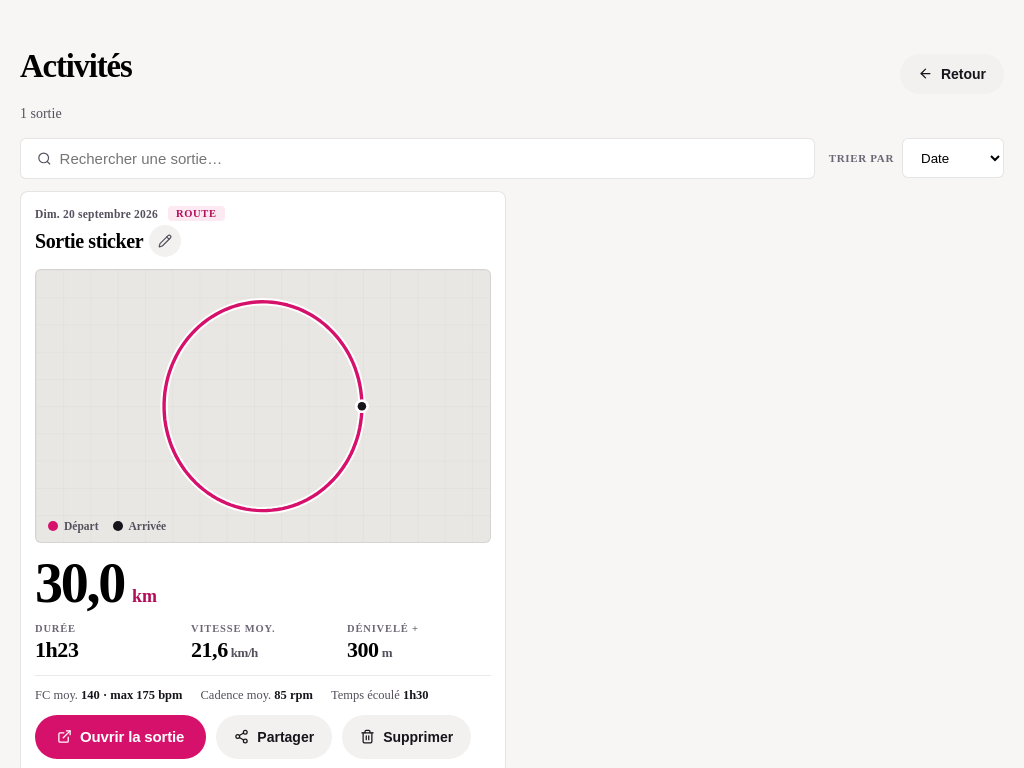
it: ActivityFeedView — partage › propose Clair / Sombre / Transparent et le format Sticker ; le fond transparent affiche un repère damier et un nom de fichier dédié
Check: the number of pictures named "Tracé de" is 1, box [36,270,490,542]
Step 1. Click the button "Partager" → [274, 736], box [216,714,332,758]
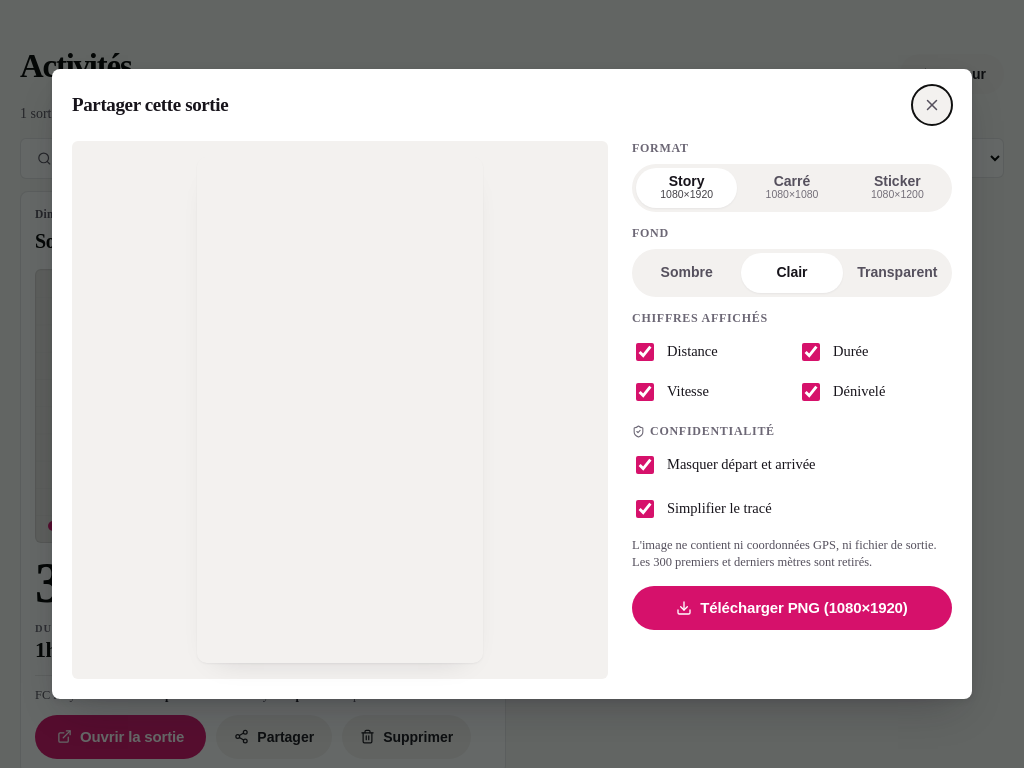
Check: the radio buttons read "Sombre", "Clair", "Transparent", in this order
Step 2. Click the radio button labelled "Transparent" → [897, 273], box [847,253,948,293]
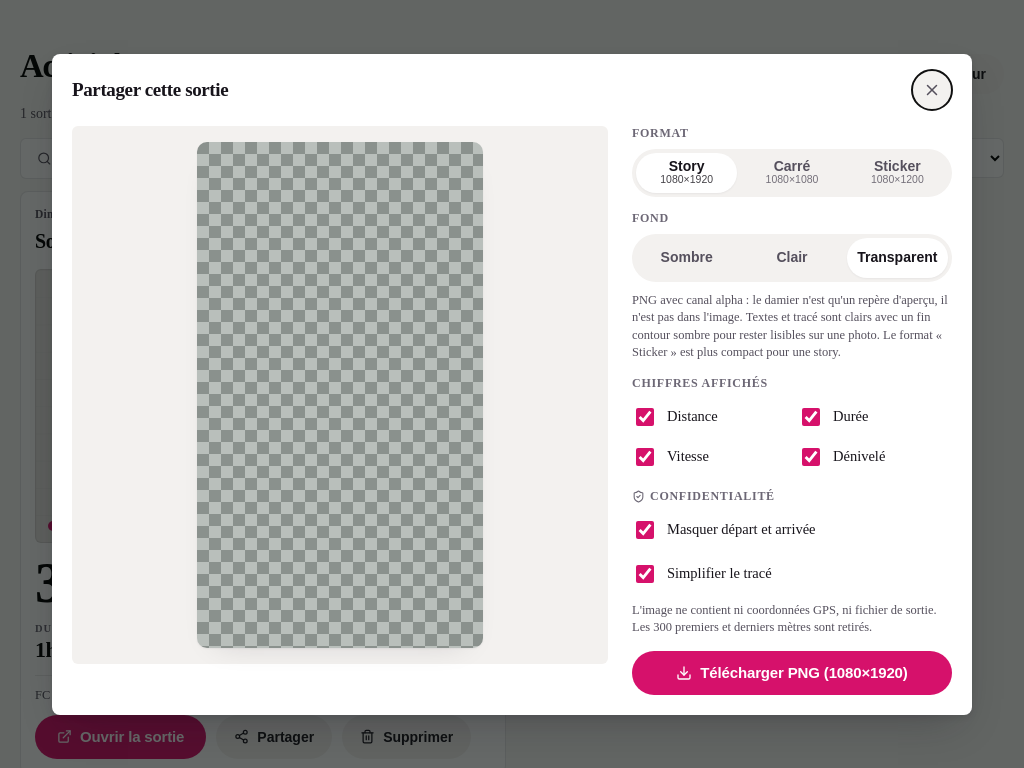
Check: the element with class "gpx-share-preview--transparent" is shown, box [72,126,608,664]
Check: the text "le damier n'est qu'un repère d'aperçu" is shown, box [632,292,948,359]
Step 3. Click the radio button labelled "Clair" → [792, 258], box [741,238,843,278]
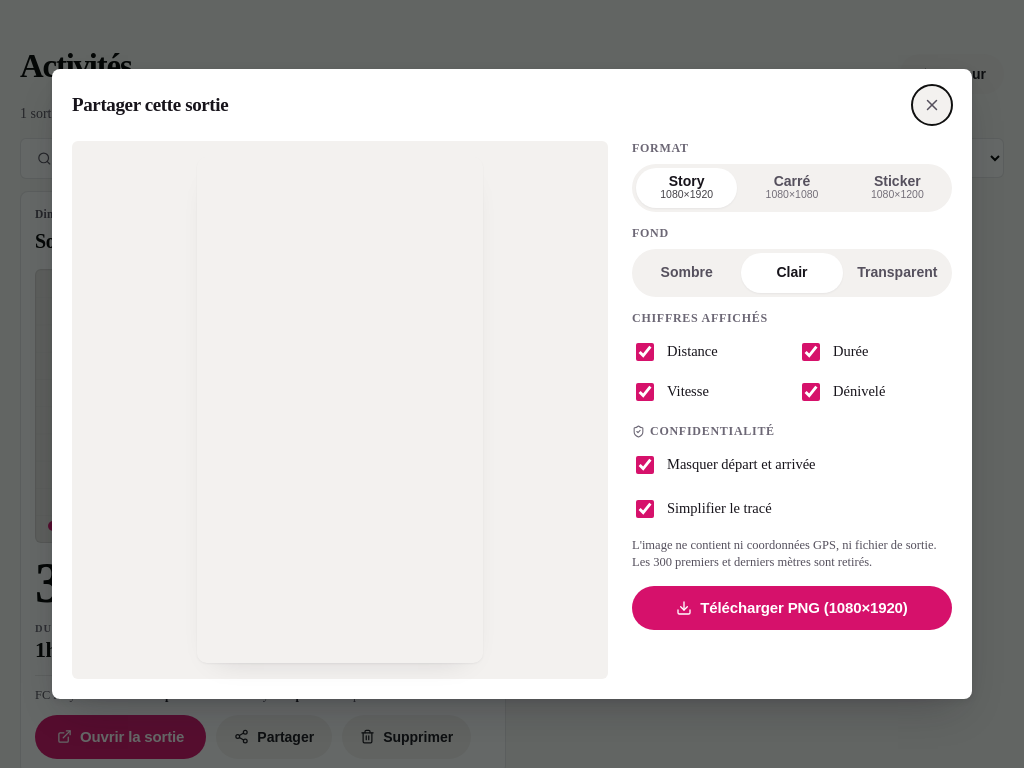
Step 4. Click the radio button labelled "Sticker 1080×1200" → [897, 188], box [847,168,948,208]
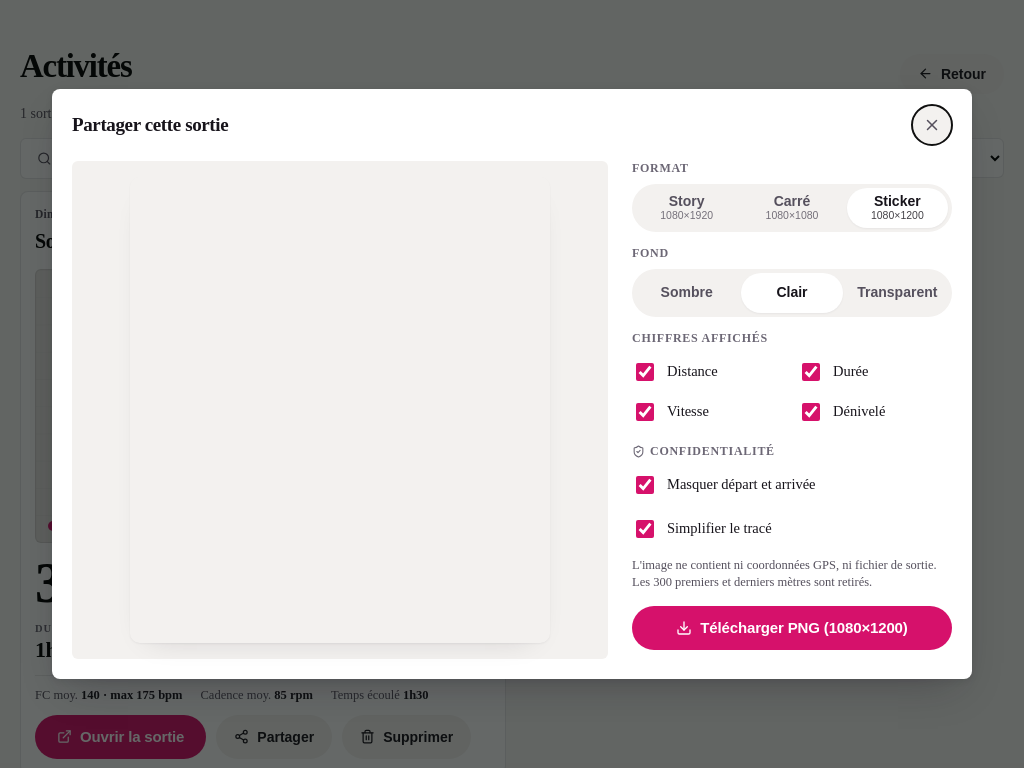
Check: the text "Télécharger PNG (1080×1200)" is shown, box [700,619,908,636]
